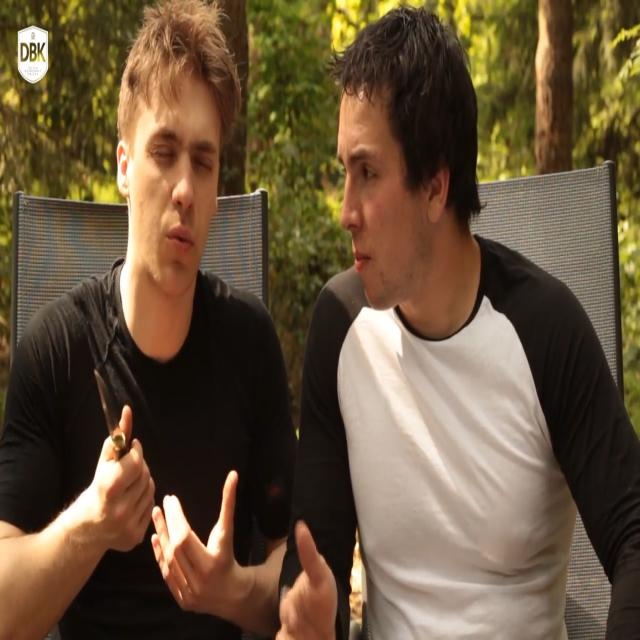knife: (90, 367, 132, 466)
